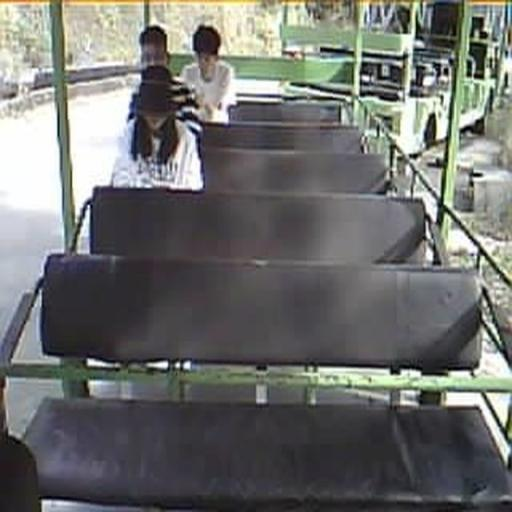persona: (111, 66, 205, 192), (125, 24, 197, 122), (179, 24, 237, 116)
